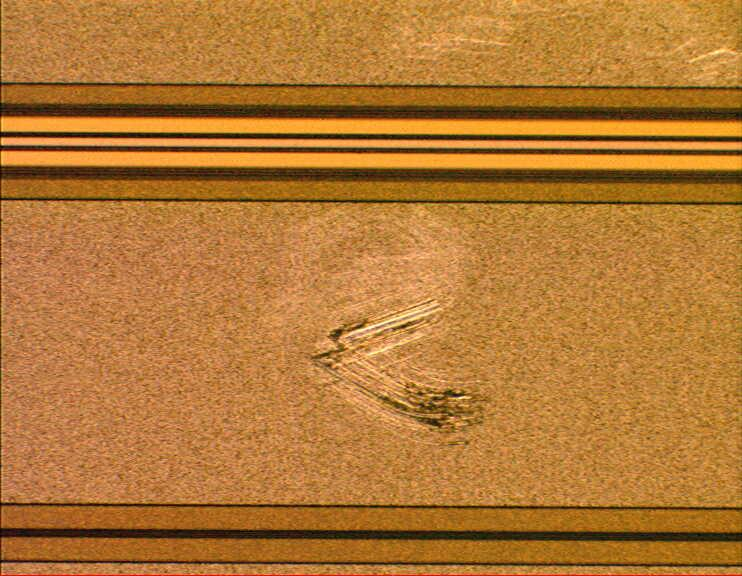SCRATCH: (277, 11, 742, 449)
